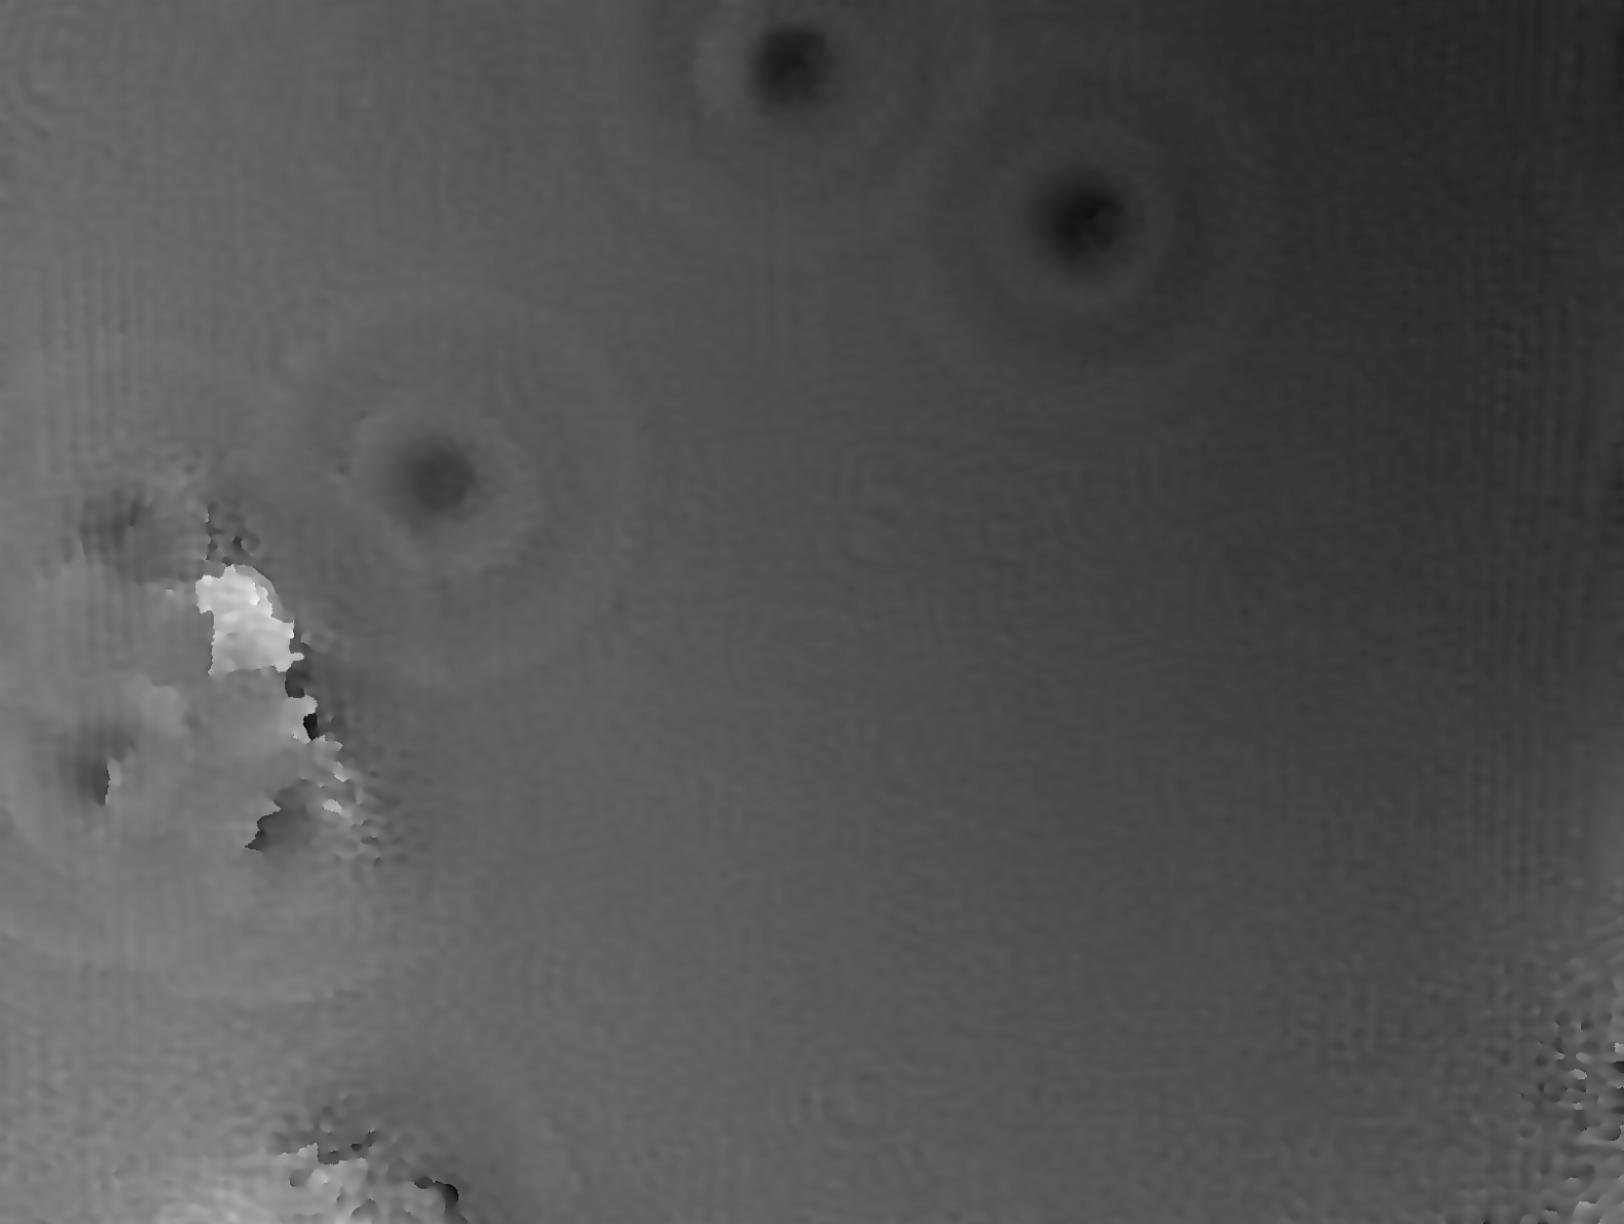cell: (949, 102, 1209, 345), (327, 374, 559, 595), (667, 1, 919, 194), (1, 662, 194, 885)
